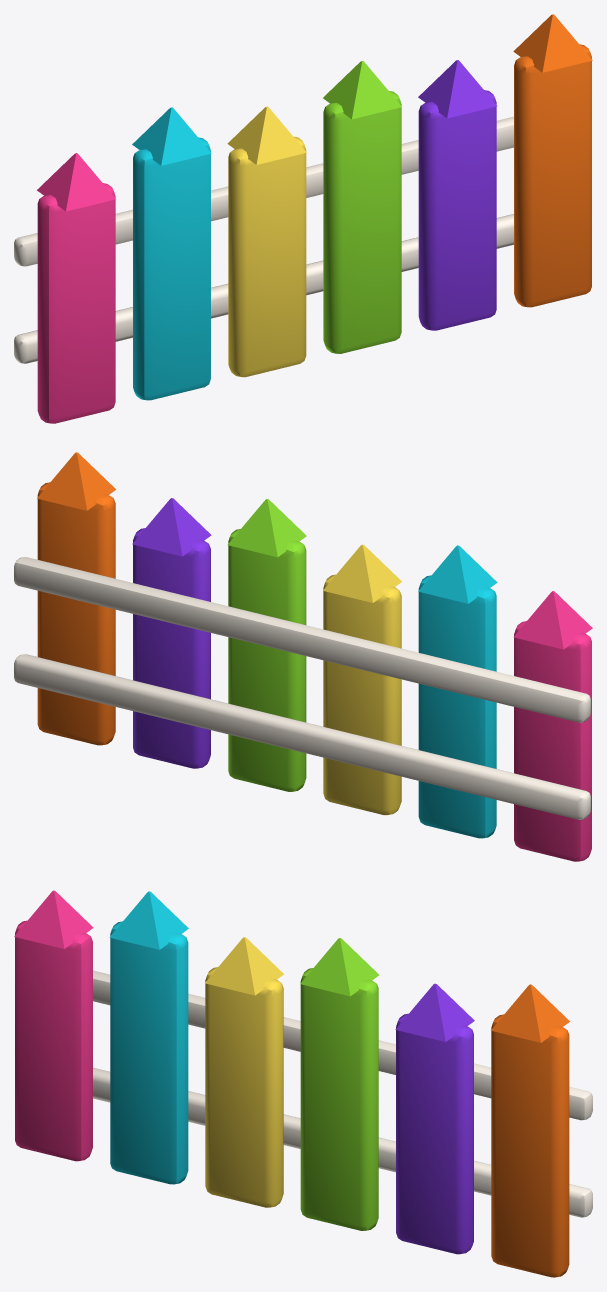
The model's file is base_fence.obj.
The picture shows the model from 3 angles, top to bottom: view 1: azimuth 30°, elevation 25°; view 2: azimuth 150°, elevation 25°; view 3: azimuth 330°, elevation 25°; orthographic projection.
Visible parts, largest first — view 1: base_fence; view 2: base_fence; view 3: base_fence.
Boxes of the visible parts, left/top/right/bottom form: base_fence: left=14, top=14, right=592, bottom=423; base_fence: left=14, top=452, right=592, bottom=861; base_fence: left=14, top=890, right=592, bottom=1277.
Bounding box in the file's own units: 8 × 3.8 × 0.7786.
1 material, 1 textured.
